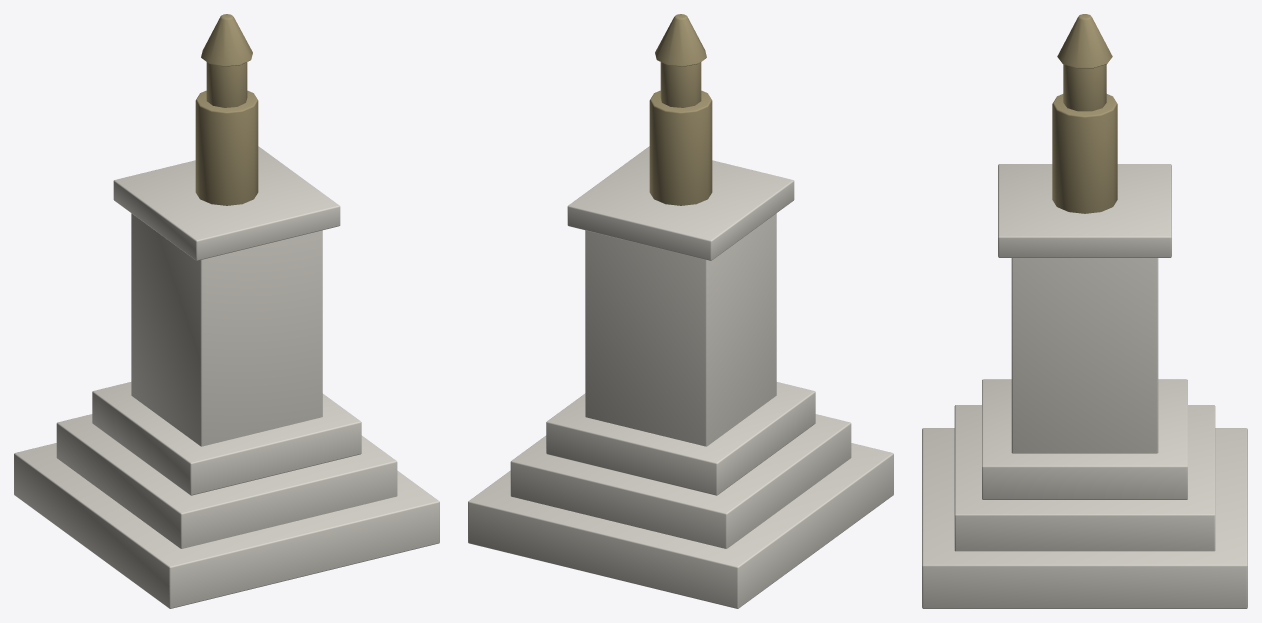
File: th7_denkmal.glb
3 views of the same model, side by side, from view 1: azimuth 30°, elevation 25°; view 2: azimuth 150°, elevation 25°; view 3: azimuth 270°, elevation 25° (orthographic). The views are drawn at different scales.
Visible parts, largest first — view 1: Cube.003, Cube, Cube.001, Cube.002, Cube.004, Cylinder, Cone, Cylinder.001; view 2: Cube.003, Cube, Cube.001, Cube.002, Cube.004, Cylinder, Cone, Cylinder.001; view 3: Cube.003, Cube, Cube.001, Cube.002, Cube.004, Cylinder, Cone, Cylinder.001.
Boxes of the visible parts, x1,y1,x2,y2 form: Cube.003: (131, 213, 322, 446); Cube: (14, 443, 439, 608); Cube.001: (56, 414, 397, 548); Cube.002: (92, 382, 361, 495); Cube.004: (113, 146, 340, 260); Cylinder: (195, 90, 258, 205); Cone: (201, 14, 252, 66); Cylinder.001: (206, 62, 247, 107); Cube.003: (585, 213, 776, 446); Cube: (468, 443, 893, 608); Cube.001: (510, 414, 851, 548); Cube.002: (546, 382, 815, 495); Cube.004: (567, 146, 794, 260); Cylinder: (649, 90, 712, 205); Cone: (655, 14, 706, 66); Cylinder.001: (660, 62, 701, 107); Cube.003: (1011, 258, 1158, 453); Cube: (922, 428, 1247, 608); Cube.001: (954, 405, 1215, 551); Cube.002: (982, 379, 1187, 499); Cube.004: (998, 164, 1171, 257); Cylinder: (1052, 94, 1117, 213); Cone: (1057, 14, 1112, 68); Cylinder.001: (1063, 64, 1106, 111).
Size of the model in its own units: 3 by 5.33 by 3.
